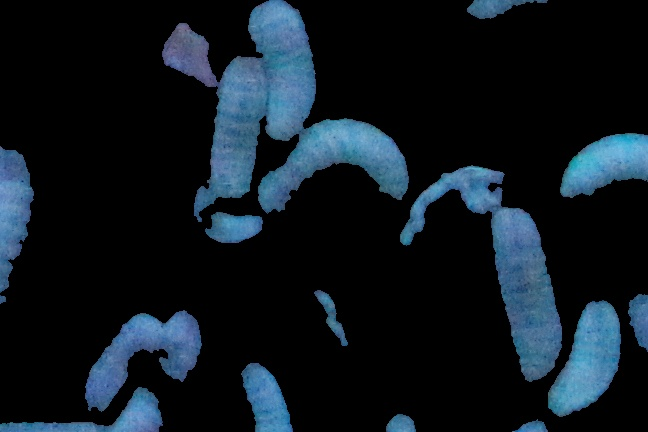larvae: (257, 120, 410, 213), (490, 206, 563, 383), (250, 1, 315, 138), (550, 299, 620, 421), (206, 56, 266, 198), (84, 315, 161, 407), (1, 138, 41, 311), (560, 130, 648, 202), (194, 187, 267, 246), (159, 313, 209, 399), (240, 360, 297, 432)
